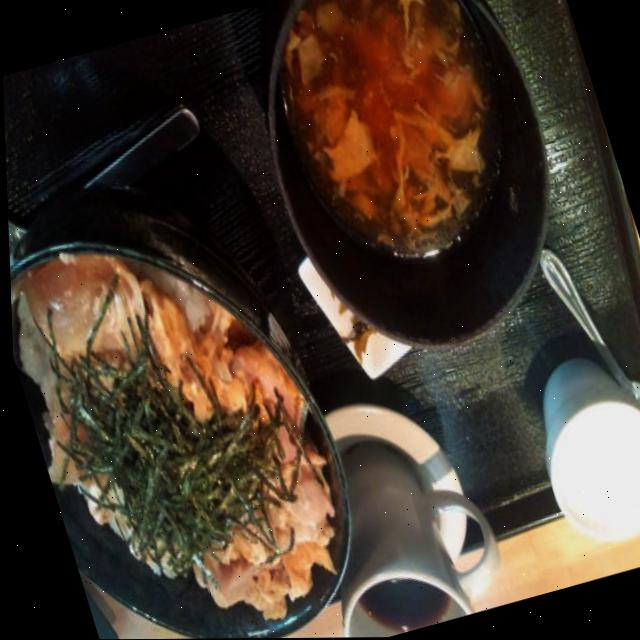汤锅炖物: (187, 0, 534, 346)
米饭主食: (2, 79, 357, 640)
